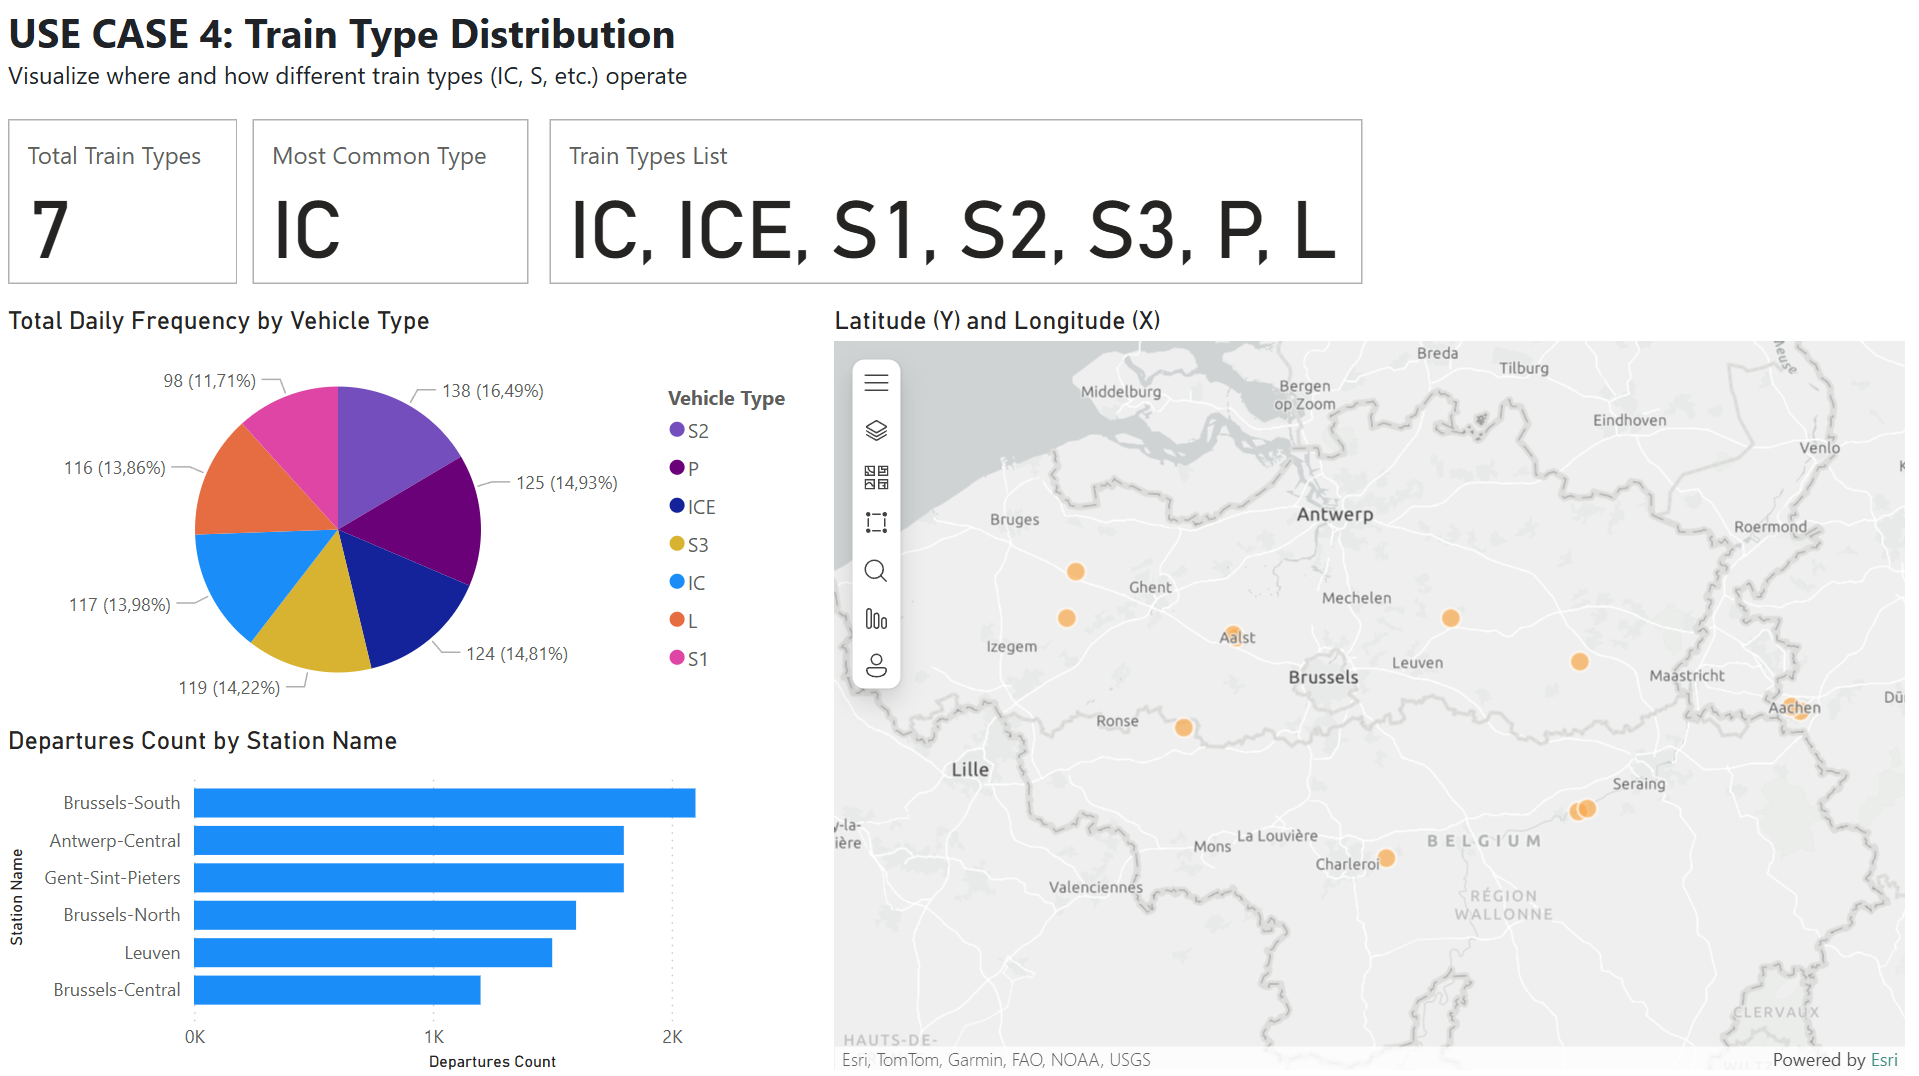

The dashboard page shown, as its layout file describes it:
{"tool":"powerbi","page":{"name":"UC4","canvas":[1280,720],"ordinal":3},"visuals":[{"type":"textbox","box":[23,0,280,280],"z":0},{"type":"textbox","box":[0,0,637,70],"z":1000},{"type":"cardVisual","fields":{"Data":["Vehicles.Total_Train_Types"]},"box":[0,76,163,120],"z":2000},{"type":"cardVisual","fields":{"Data":["Vehicles.Most_Common_Type"]},"box":[163,76,194,120],"z":3000},{"type":"cardVisual","fields":{"Data":["Vehicles.Train_Types_List"]},"box":[361,76,619,120],"z":4000},{"type":"pieChart","fields":{"Category":["Vehicles.data.vehicle_type"],"Y":["Vehicles.Total_Daily_Frequency"]},"box":[0,205,545,280],"z":5000},{"type":"barChart","fields":{"Category":["Departures.data.station_name"],"Y":["Sum(Departures.count)"]},"box":[0,485,545,235],"z":6000},{"type":"azureMap","fields":{"Y":["VehiculesStationsDelays.Latitude"],"X":["VehiculesStationsDelays.Longitude"],"Size":["CountNonNull(VehiculesStationsDelays.vehicle_type)"],"Series":["VehiculesStationsDelays.vehicle_type"]},"box":[556.7,195.6,723.3,524.4],"z":7000}]}

Visuals, with their boxes in screenshot pixels (x1, y1, x2, y2), scaled from the page's 1280x720 canvas onto the 1919x1076 screenshot:
textbox: bbox(34, 0, 454, 418)
textbox: bbox(0, 0, 955, 105)
cardVisual - Vehicles.Total_Train_Types: bbox(0, 114, 244, 293)
cardVisual - Vehicles.Most_Common_Type: bbox(244, 114, 535, 293)
cardVisual - Vehicles.Train_Types_List: bbox(541, 114, 1469, 293)
pieChart - Vehicles.data.vehicle_type x Vehicles.Total_Daily_Frequency: bbox(0, 306, 817, 725)
barChart - Departures.data.station_name x Sum(Departures.count): bbox(0, 725, 817, 1075)
azureMap - VehiculesStationsDelays.Latitude x VehiculesStationsDelays.Longitude: bbox(835, 292, 1918, 1075)
